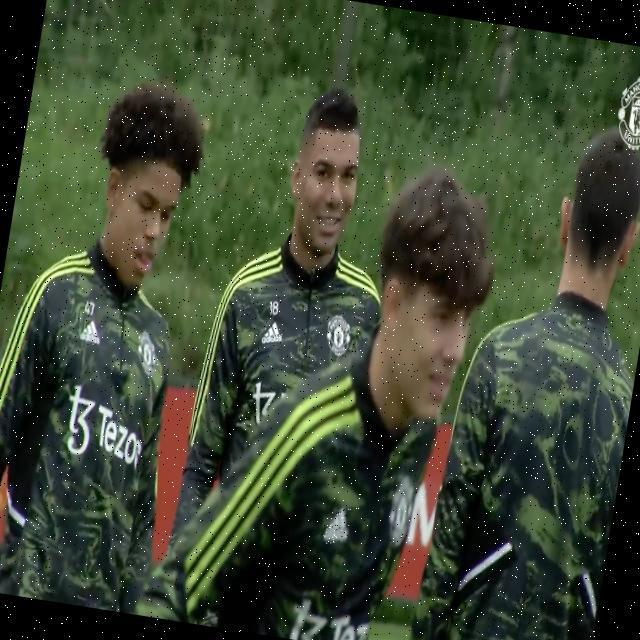Adidas: (322, 504, 353, 547), (80, 315, 105, 348), (260, 322, 285, 348)
